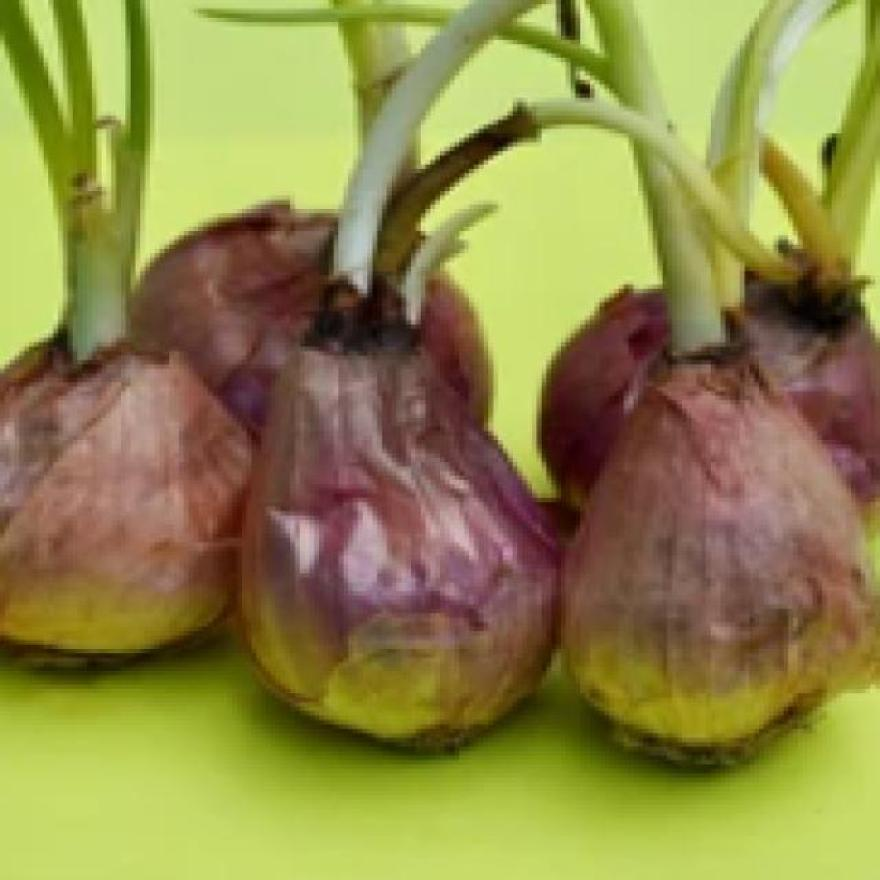Sprouted: (624, 213, 764, 378), (300, 204, 436, 365), (5, 235, 164, 364), (700, 191, 856, 320)
